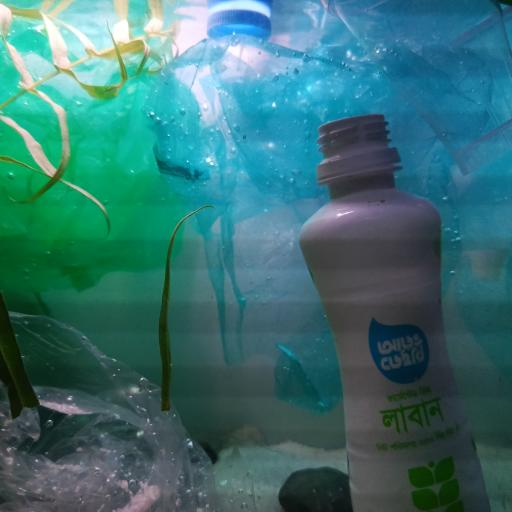bottle_cap: (200, 9, 271, 38)
plastic_bag: (146, 0, 512, 415), (2, 309, 265, 512), (0, 18, 192, 293)
plastic_bottle: (302, 113, 494, 512)
plastic_cup: (322, 0, 512, 174)
